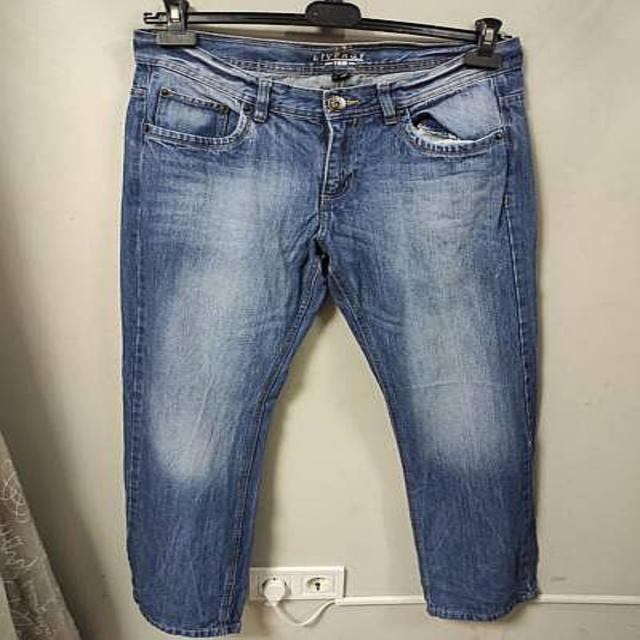TROUSER: (94, 22, 562, 638)
